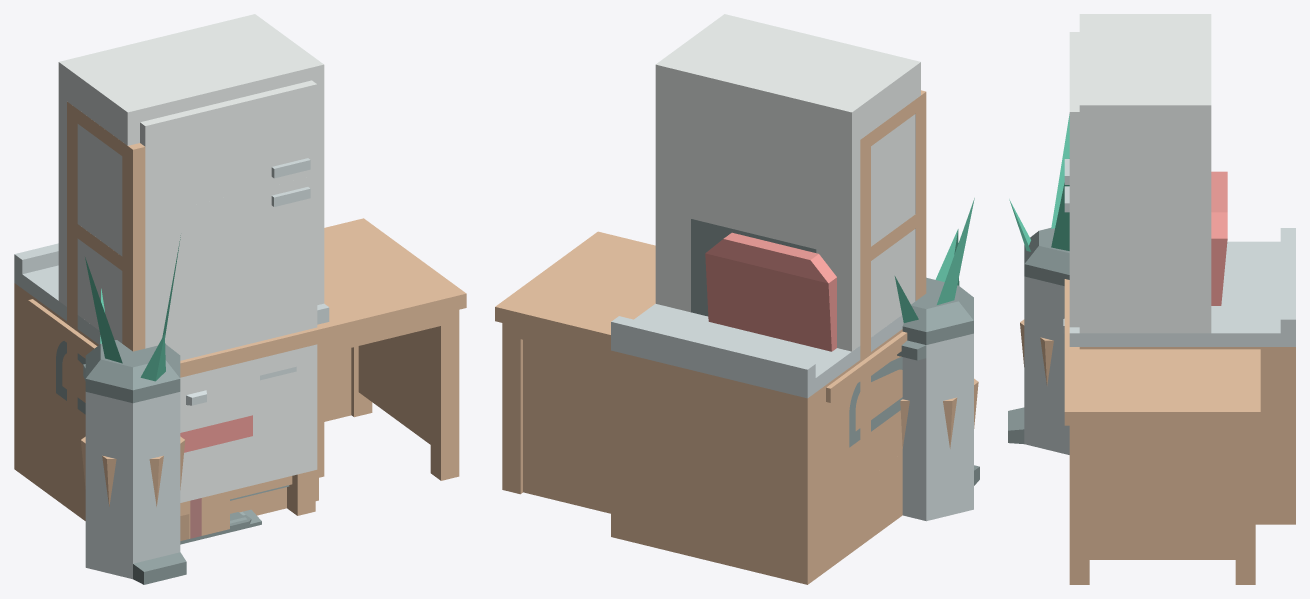
File: office.glb
The picture shows the model from 3 angles, left to right: view 1: azimuth 30°, elevation 25°; view 2: azimuth 150°, elevation 25°; view 3: azimuth 270°, elevation 25°; orthographic projection. The views are drawn at different scales.
Parts seen in each view (by area): view 1: doorFridge, Mesh desk, Mesh kitchenFridge, trashcan(Clone), doorFreezer, Mesh kitchenCabinet, bookcaseClosed(Clone), chair, plant, cardboardBoxClosed(Clone), Mesh pottedPlant; view 2: Mesh kitchenFridge, Mesh kitchenCabinet, Mesh desk, trashcan(Clone), chair, bookcaseClosed(Clone), plant, Mesh pottedPlant; view 3: Mesh kitchenFridge, Mesh desk, Mesh kitchenCabinet, trashcan(Clone), chair, doorFreezer, doorFridge, plant, Mesh pottedPlant.
Part boxes in pixels (box(x1,y1,x2,y2)): doorFridge: box(145, 175, 317, 502); Mesh desk: box(28, 218, 466, 491); Mesh kitchenFridge: box(58, 14, 324, 343); trashcan(Clone): box(83, 340, 186, 584); doorFreezer: box(140, 80, 317, 216); Mesh kitchenCabinet: box(14, 243, 329, 520); bookcaseClosed(Clone): box(67, 101, 315, 515); chair: box(56, 341, 252, 452); plant: box(85, 235, 180, 381); cardboardBoxClosed(Clone): box(180, 491, 229, 540); Mesh pottedPlant: box(81, 436, 185, 506); Mesh kitchenFridge: box(655, 14, 920, 351); Mesh kitchenCabinet: box(611, 303, 903, 584); Mesh desk: box(495, 231, 907, 569); trashcan(Clone): box(897, 277, 979, 521); chair: box(705, 232, 902, 447); bookcaseClosed(Clone): box(860, 90, 926, 545); plant: box(894, 198, 974, 322); Mesh pottedPlant: box(900, 378, 978, 448); Mesh kitchenFridge: box(1079, 14, 1211, 333); Mesh desk: box(1064, 279, 1260, 584); Mesh kitchenCabinet: box(1069, 228, 1295, 524); trashcan(Clone): box(1008, 228, 1069, 454); chair: box(1211, 171, 1227, 305); doorFreezer: box(1064, 32, 1079, 198); doorFridge: box(1064, 186, 1079, 327); plant: box(1009, 114, 1069, 251); Mesh pottedPlant: box(1020, 319, 1053, 385).
Size of the model in its own units: 0.8305 by 0.92 by 0.5725.
Materials: 2 (2 with a texture image).
